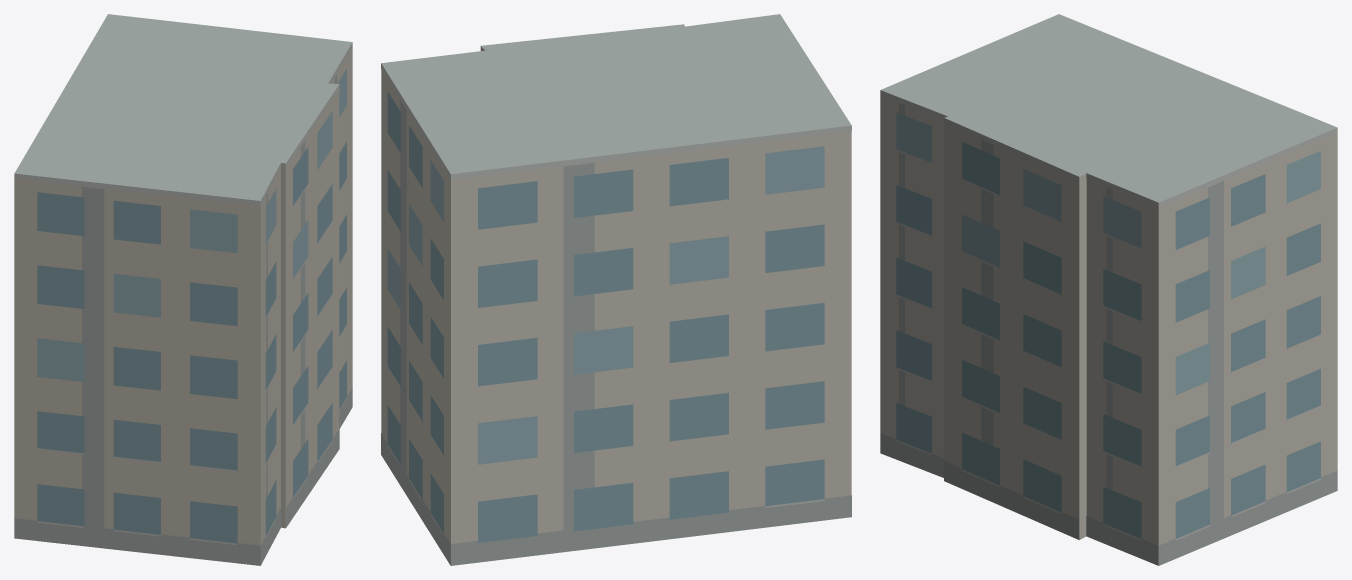
The model's file is survey-upis-32845291.glb.
3 renders of one model, left to right at view 1: azimuth 30°, elevation 25°; view 2: azimuth 150°, elevation 25°; view 3: azimuth 270°, elevation 25°, orthographic. The views are drawn at different scales.
Parts seen in each view (by area): view 1: survey-upis-32845291.tmp; view 2: survey-upis-32845291.tmp; view 3: survey-upis-32845291.tmp.
Part boxes in pixels (box(x1,y1,x2,y2)): survey-upis-32845291.tmp: box(14, 14, 352, 565); survey-upis-32845291.tmp: box(381, 14, 851, 565); survey-upis-32845291.tmp: box(880, 14, 1337, 565).
Bounding box in the file's own units: 17.83 × 16 × 18.26.
